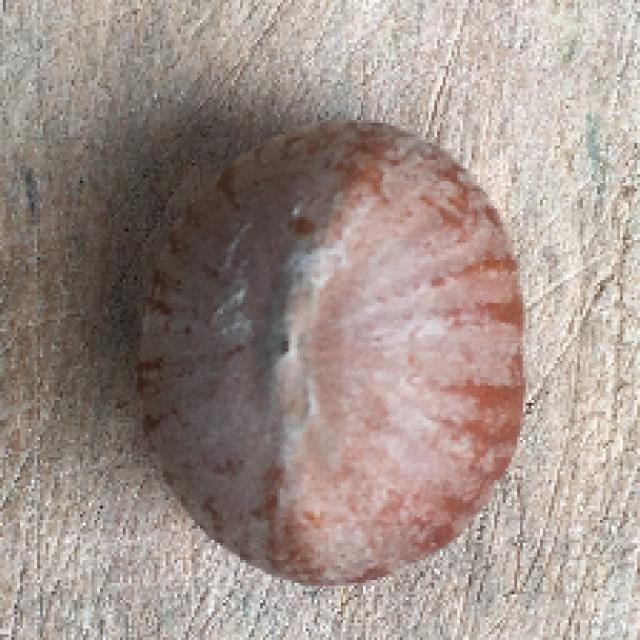qualityHazelnut: (121, 97, 542, 591)
